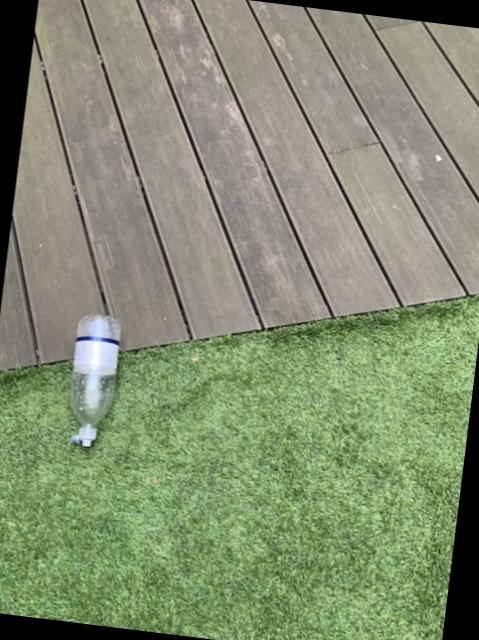plastic: (72, 313, 122, 443)
